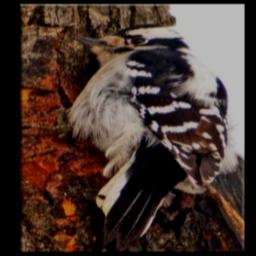Woodpecker: (24, 19, 240, 251)
